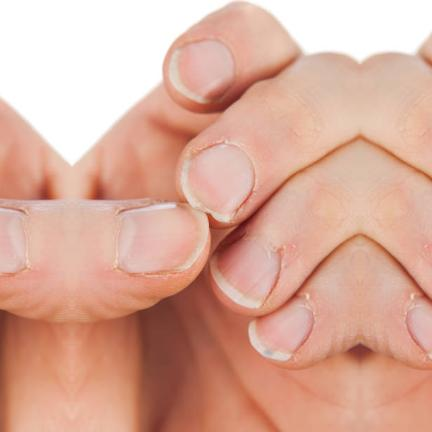Nail: (118, 207, 208, 274), (181, 143, 255, 222), (210, 239, 280, 309), (249, 299, 314, 362), (169, 40, 234, 103), (0, 209, 26, 273), (406, 299, 432, 360)
